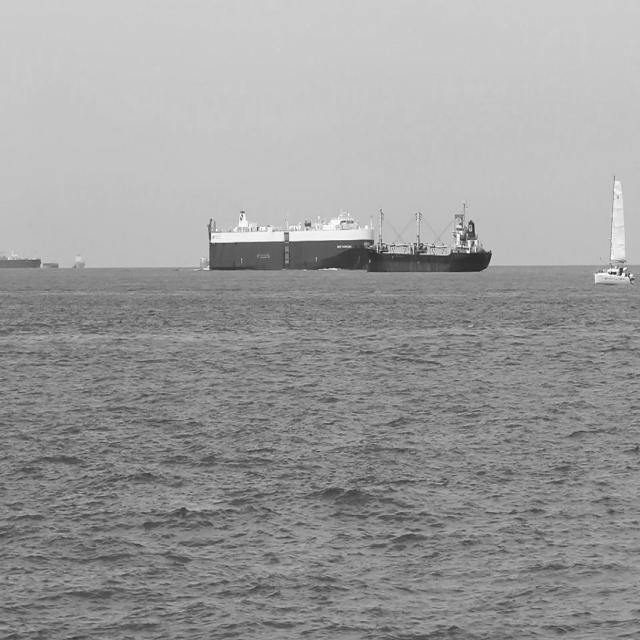boat: (592, 169, 636, 288)
ship: (202, 206, 376, 276), (362, 203, 496, 281), (0, 247, 45, 276), (70, 250, 88, 274), (198, 253, 209, 274)
